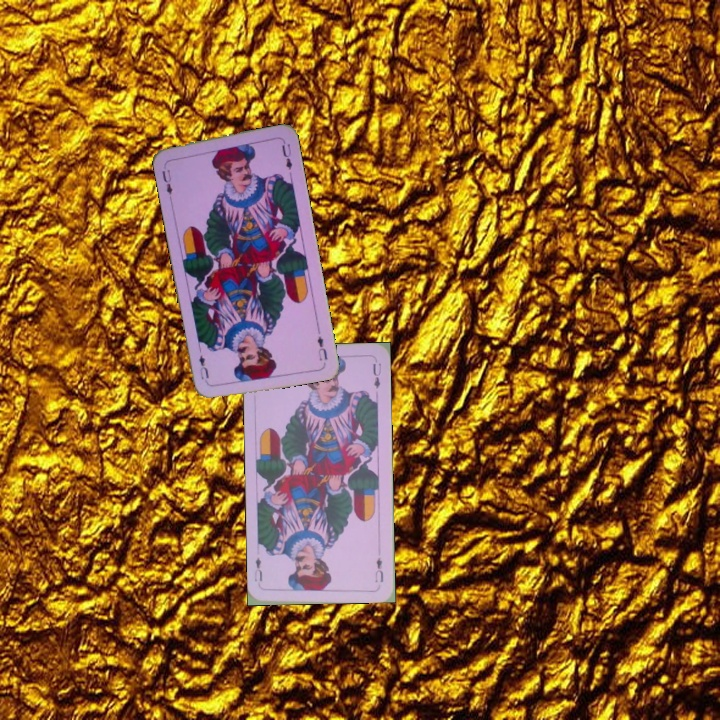EU: (158, 160, 175, 200), (313, 332, 330, 364), (371, 554, 386, 585)
